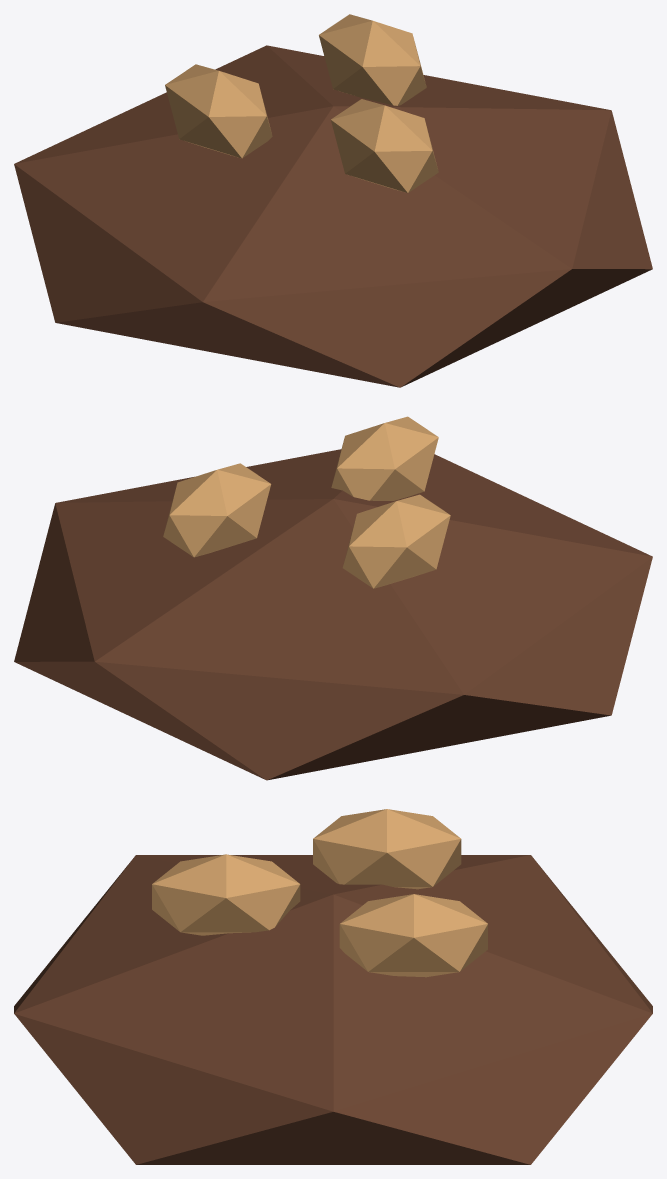
The model's file is Seed_Mound.fbx.
The picture shows the model from 3 angles, top to bottom: view 1: azimuth 30°, elevation 25°; view 2: azimuth 150°, elevation 25°; view 3: azimuth 270°, elevation 25°; orthographic projection. The views are drawn at different scales.
Visible parts, largest first — view 1: Seed_Mound; view 2: Seed_Mound; view 3: Seed_Mound.
Part boxes in pixels (bbox=[...]): Seed_Mound: bbox=[14, 14, 652, 387]; Seed_Mound: bbox=[14, 416, 652, 780]; Seed_Mound: bbox=[14, 809, 652, 1164].
Size of the model in its own units: 0.2504 by 0.0805 by 0.2382.
